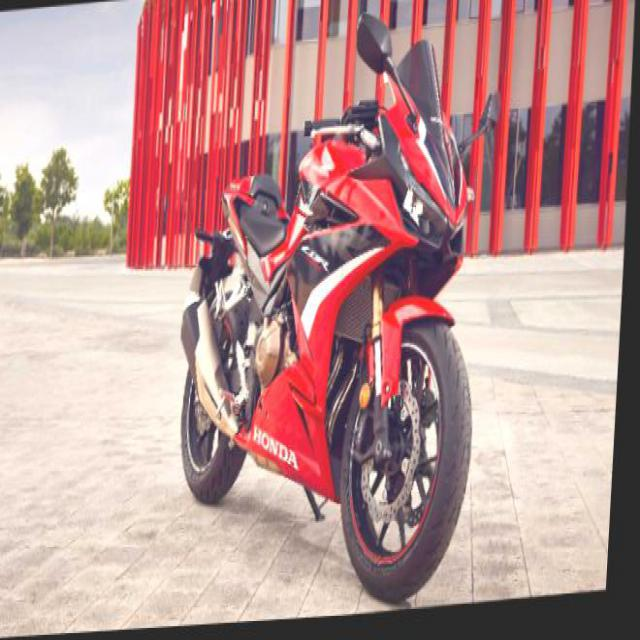CBR500R: (167, 2, 514, 628)
